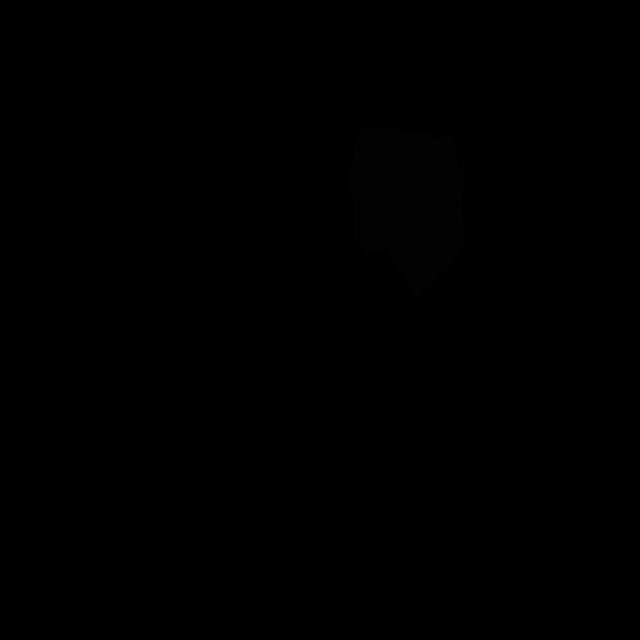cardboard: (347, 125, 465, 297)
